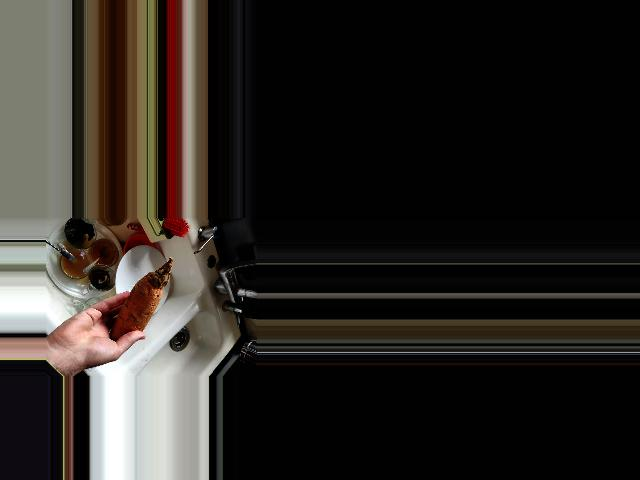sweet_potato: (105, 256, 173, 348)
